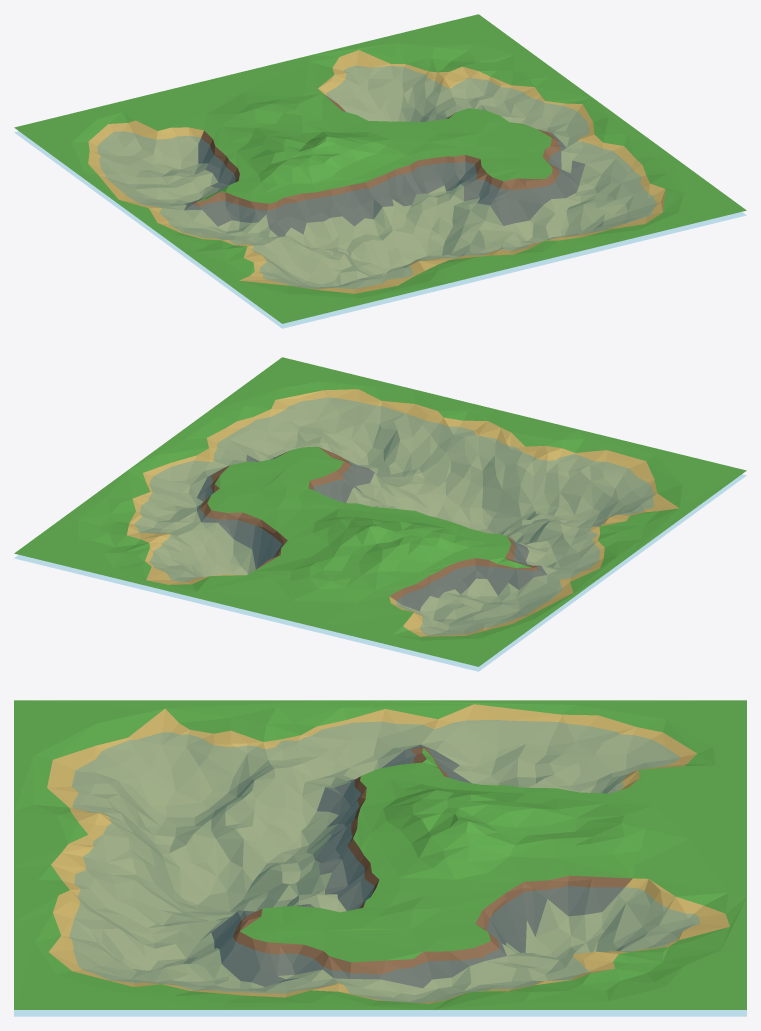
File: lake02.fbx
3 views of the same model, one above another, from view 1: azimuth 30°, elevation 25°; view 2: azimuth 150°, elevation 25°; view 3: azimuth 270°, elevation 25° (orthographic). The views are drawn at different scales.
Visible parts, largest first — view 1: lake02, water.003; view 2: lake02, water.003; view 3: lake02, water.003.
Part boxes in pixels (x1=…): lake02: x1=14, y1=14, x2=746, y2=323; water.003: x1=15, y1=66, x2=745, y2=328; lake02: x1=14, y1=357, x2=746, y2=666; water.003: x1=15, y1=398, x2=745, y2=671; lake02: x1=14, y1=700, x2=746, y2=1009; water.003: x1=14, y1=720, x2=746, y2=1016.
Size of the model in its own units: 5000 by 721 by 5000.
